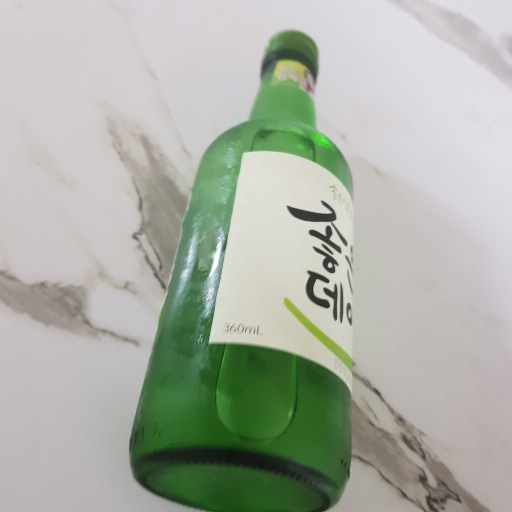Glass_0: (117, 27, 358, 512)
